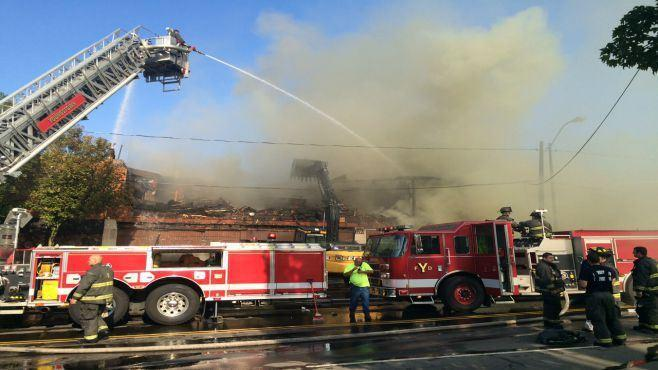smoke: (292, 57, 517, 209)
